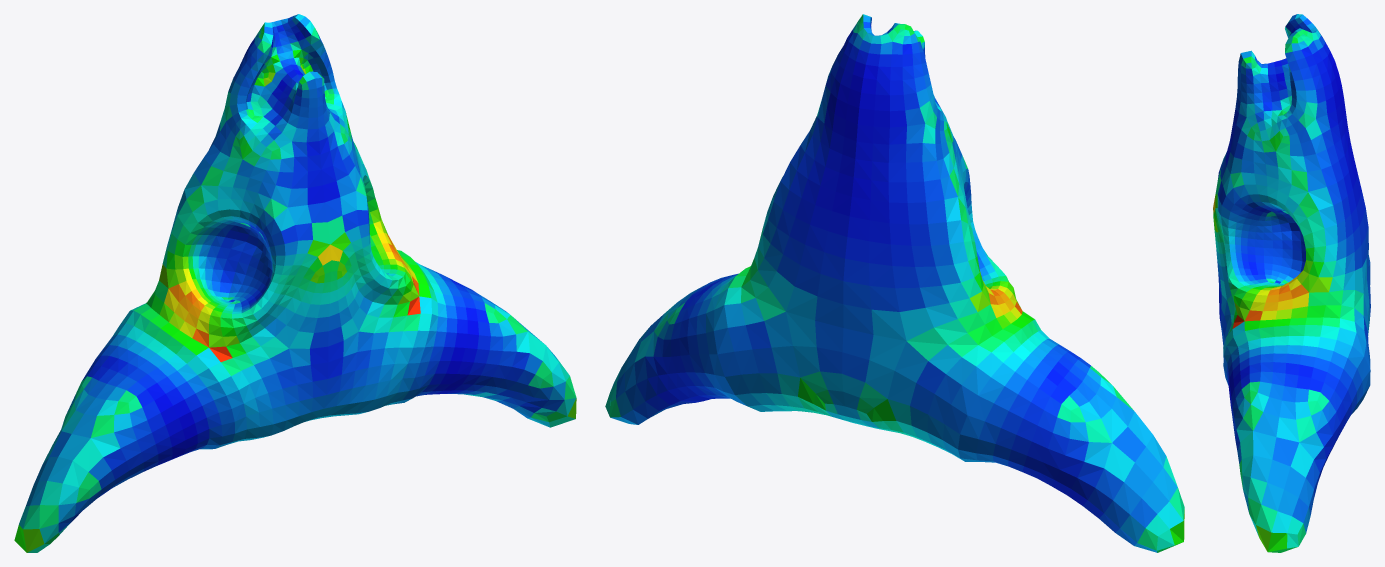
File: cowSkull_opt_quality.obj
The picture shows the model from 3 angles, left to right: view 1: azimuth 30°, elevation 25°; view 2: azimuth 150°, elevation 25°; view 3: azimuth 270°, elevation 25°; orthographic projection. The views are drawn at different scales.
Size of the model in its own units: 4.39 by 3.52 by 1.21.
